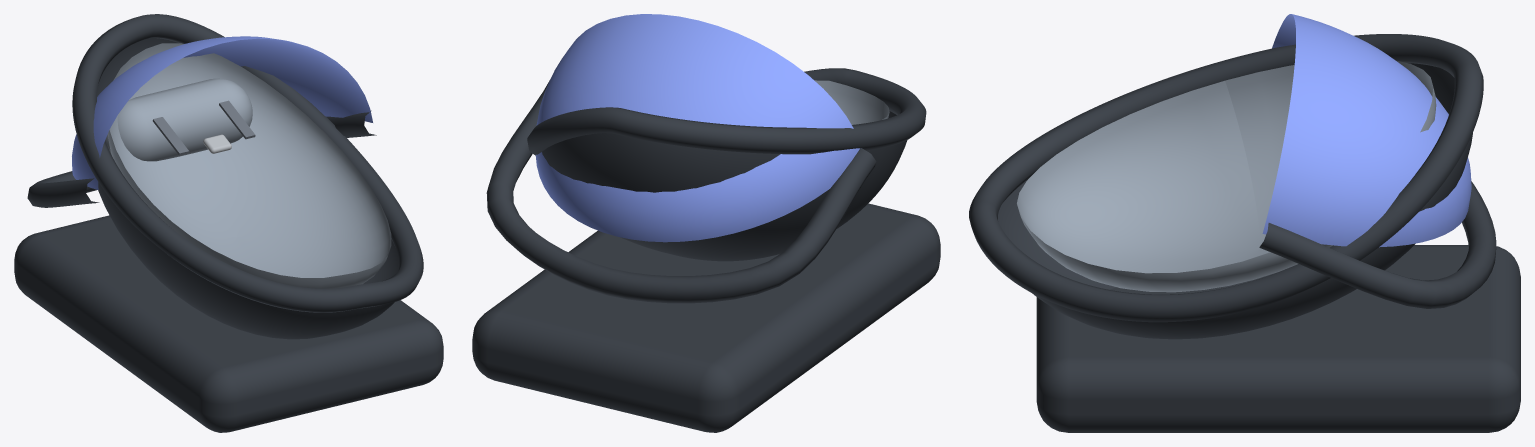
File: infantSeat.glb
3 renders of one model, left to right at view 1: azimuth 30°, elevation 25°; view 2: azimuth 150°, elevation 25°; view 3: azimuth 270°, elevation 25°, orthographic. The views are drawn at different scales.
Parts seen in each view (by area): view 1: base, pad, rimTop, canopyFabric, bucket, headPillow, handleArc, harness; view 2: base, canopyFabric, bucket, handleArc, rimTop, pad; view 3: base, pad, canopyFabric, rimTop, bucket, handleArc.
Part boxes in pixels (<box>): base: <box>14,215,443,432</box>; pad: <box>107,43,391,288</box>; rimTop: <box>72,14,423,312</box>; canopyFabric: <box>72,36,372,189</box>; bucket: <box>97,38,398,339</box>; headPillow: <box>105,78,252,161</box>; handleArc: <box>27,110,376,207</box>; harness: <box>152,100,255,155</box>; base: <box>472,203,940,432</box>; canopyFabric: <box>535,14,859,242</box>; bucket: <box>542,111,907,261</box>; handleArc: <box>486,79,876,303</box>; rimTop: <box>527,68,926,155</box>; pad: <box>814,80,889,124</box>; base: <box>1036,245,1520,432</box>; pad: <box>1017,60,1436,292</box>; canopyFabric: <box>1262,14,1471,247</box>; rimTop: <box>969,34,1483,322</box>; bucket: <box>998,63,1472,339</box>; handleArc: <box>1259,181,1496,308</box>.
Size of the model in its own units: 0.4992 by 0.4628 by 0.6836.
